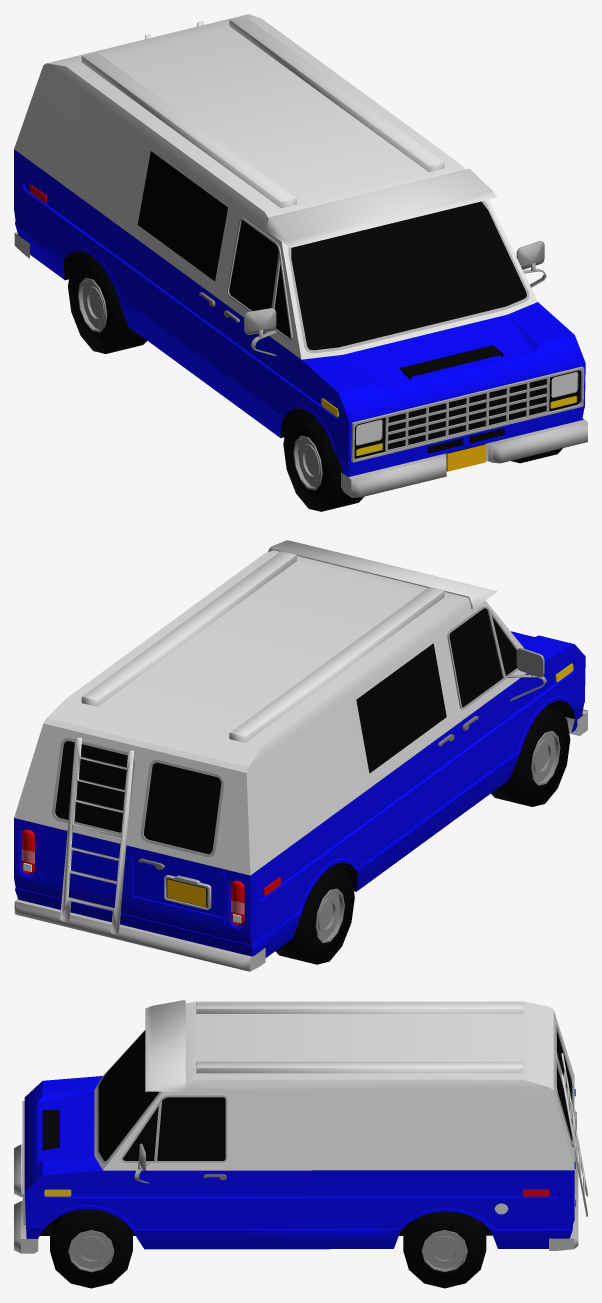
Rendered from transit_van.glb.
3 renders of one model, top to bottom at view 1: azimuth 30°, elevation 25°; view 2: azimuth 150°, elevation 25°; view 3: azimuth 270°, elevation 25°, orthographic. The views are drawn at different scales.
Visible parts, largest first — view 1: Material2 (×10), Material3 (×3); view 2: Material2 (×5), Material3 (×4); view 3: Material2 (×5), Material3 (×3).
Part boxes in pixels (x1,y1,x2,y2): Material2 (×10): [14, 14, 585, 511]; Material3 (×3): [14, 151, 587, 497]; Material2 (×5): [14, 540, 585, 964]; Material3 (×4): [14, 608, 587, 971]; Material2 (×5): [22, 1000, 587, 1288]; Material3 (×3): [14, 1030, 578, 1272].
Size of the model in its own units: 95.69 by 76.72 by 194.
